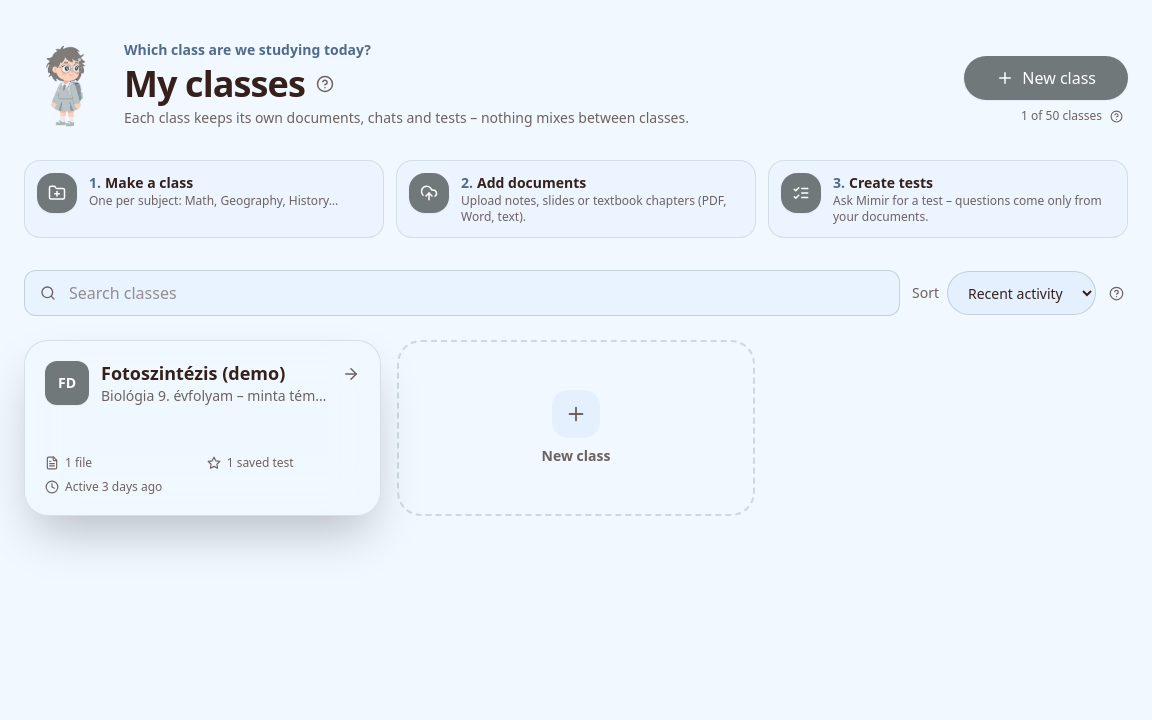
Test: TopicExplorer › lists topics and filters by search
Expected: the link "Fotoszintézis (demo)" is shown, [24,340,381,516]
Expected: the text "1 of 50 classes" is shown, [1021,104,1128,128]
Type "zzz" into the search field labelled "Search classes".
click(462, 293); type("zzz")  # box [24,270,900,316]
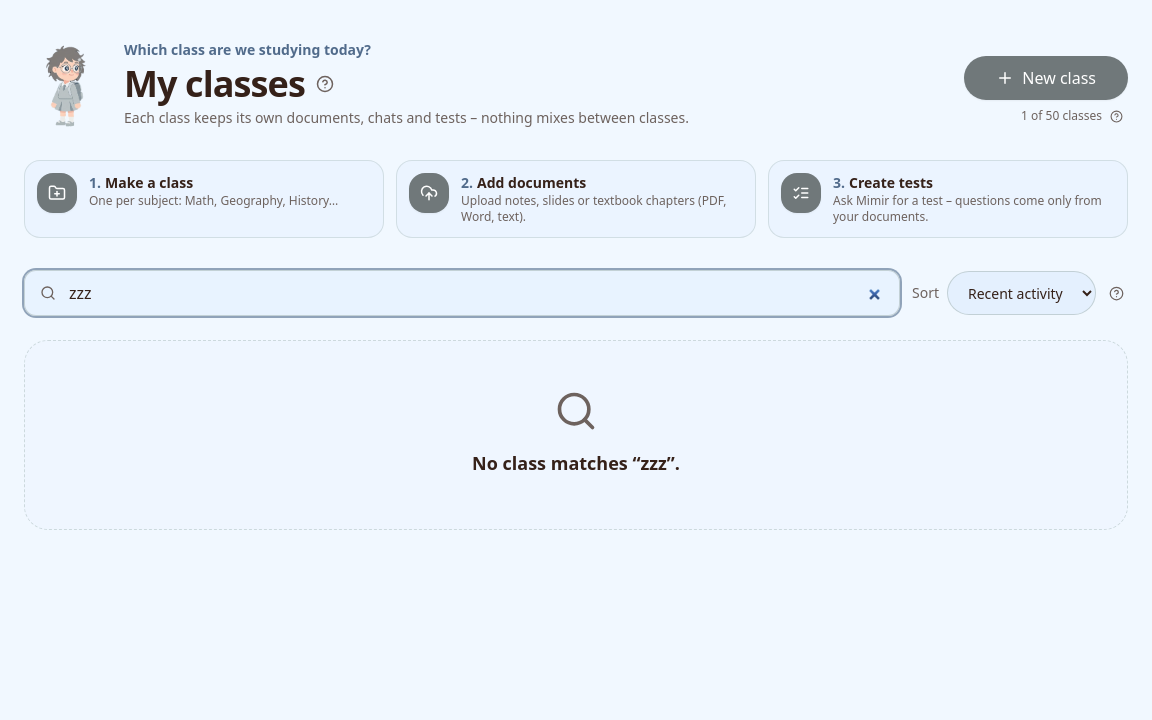
Expected: the heading "No class matches “zzz”." is shown, [472,449,680,477]
